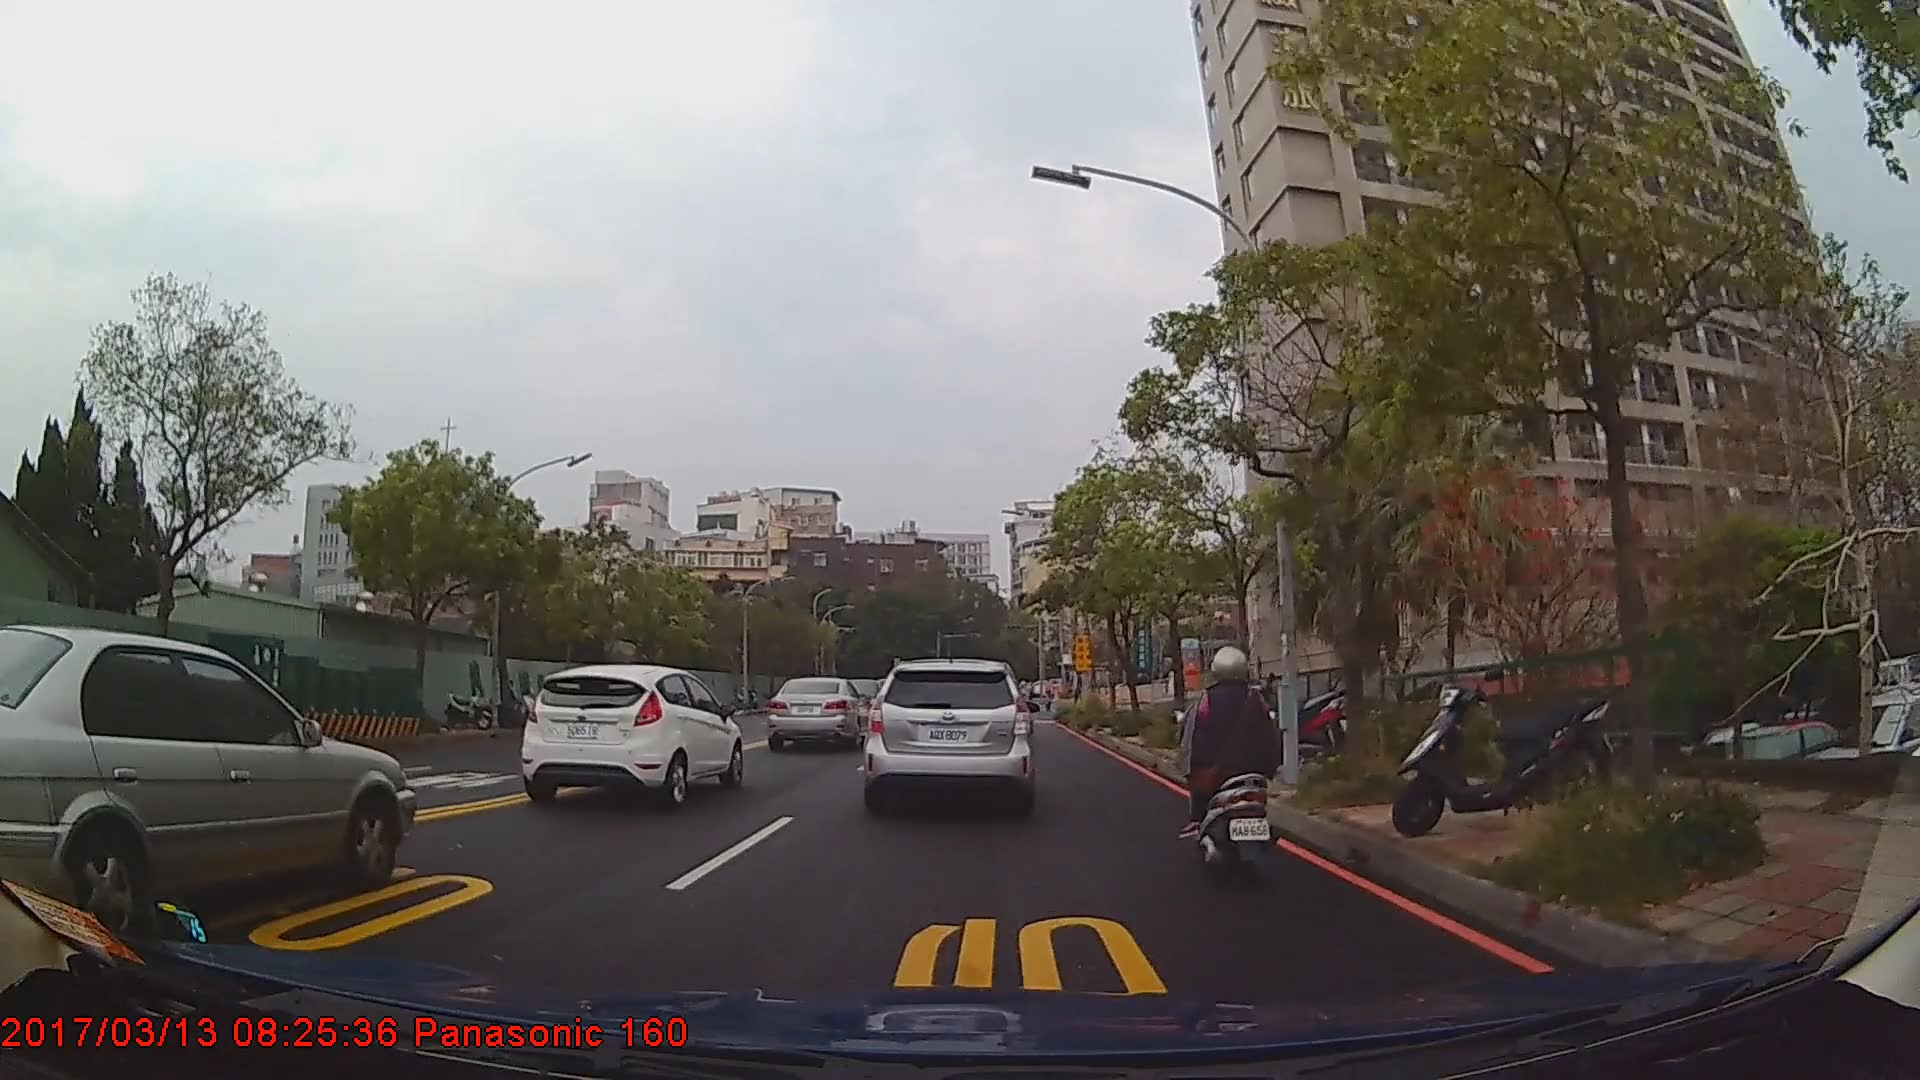rider: (1178, 644, 1287, 887)
vehicle: (0, 620, 415, 943), (518, 663, 741, 812), (863, 657, 1034, 819), (767, 673, 871, 753)
